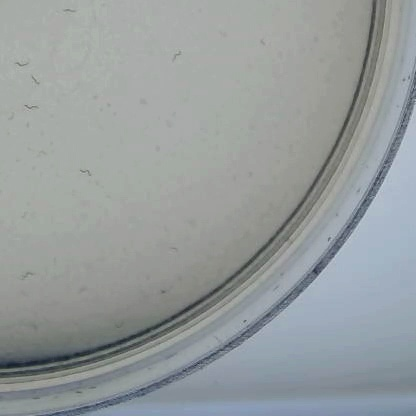worm: (169, 44, 200, 76), (168, 242, 197, 262), (22, 73, 58, 89), (75, 160, 96, 187), (11, 95, 41, 112), (10, 265, 35, 285), (56, 4, 84, 21), (7, 50, 33, 65), (255, 38, 275, 52)
